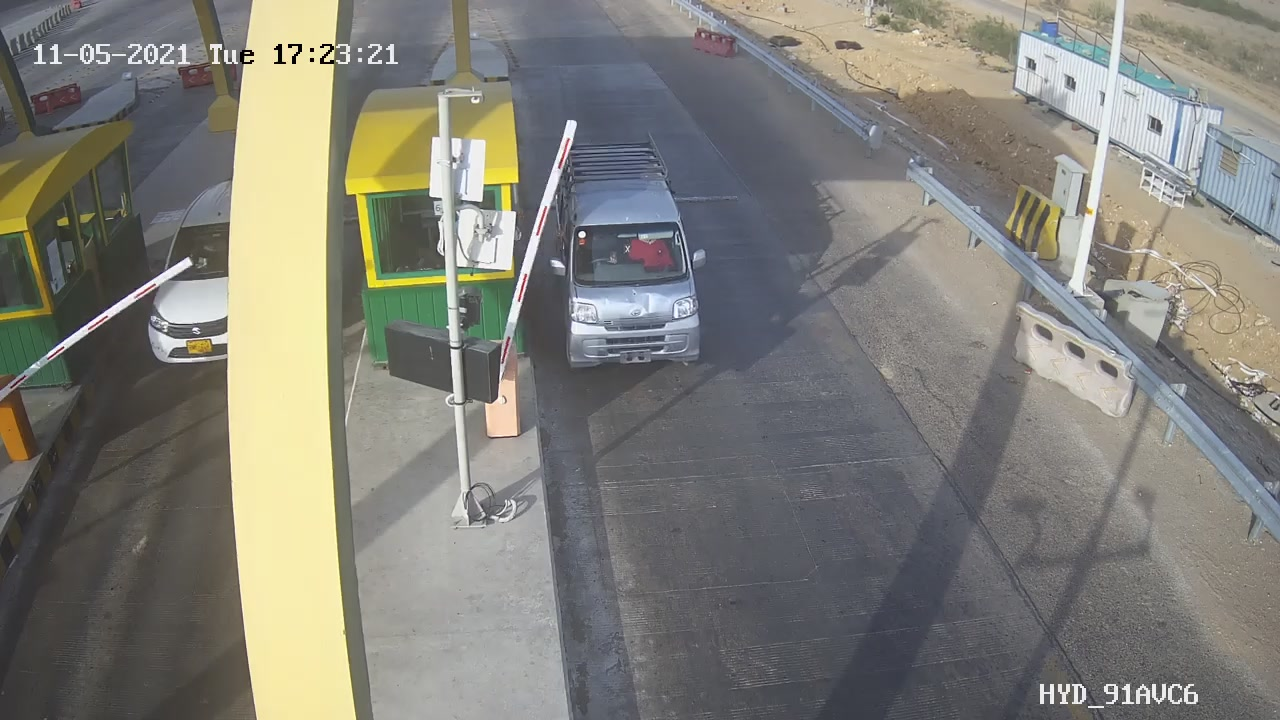F1: (544, 122, 715, 392)
